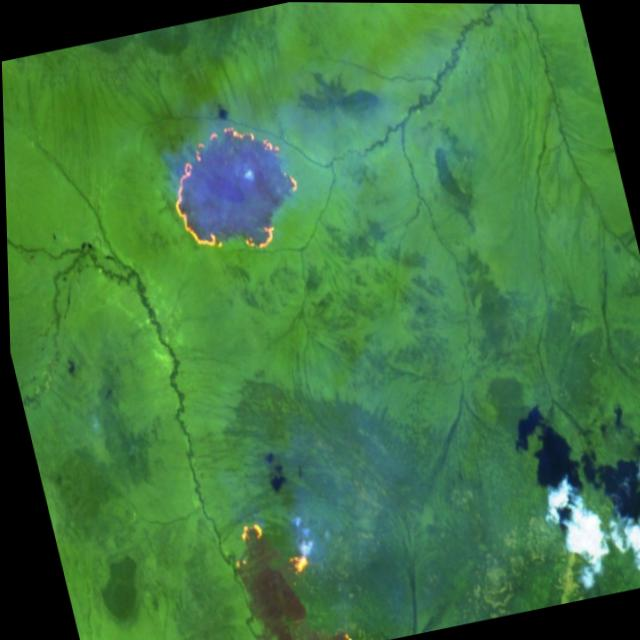fire: (149, 99, 322, 269), (224, 502, 314, 598)
